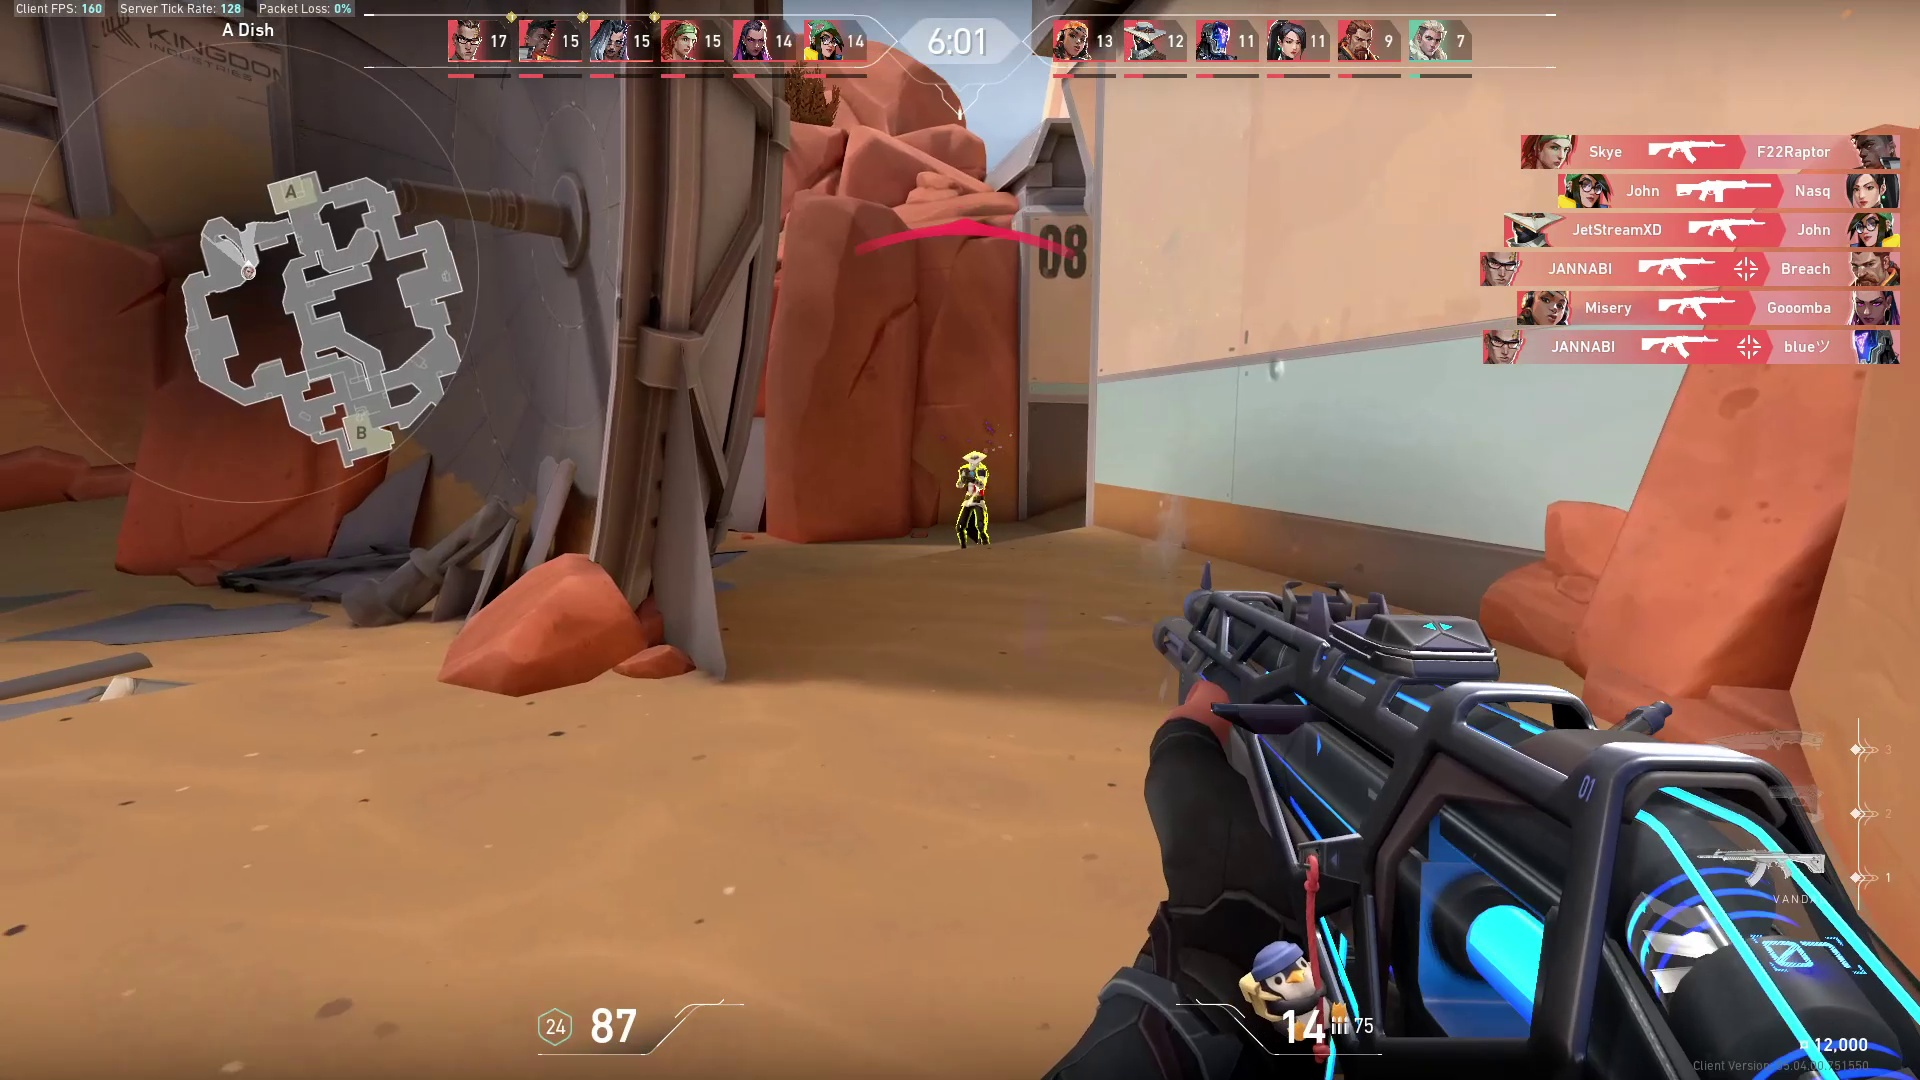enemy_body: (950, 465, 999, 552)
enemy_head: (960, 447, 989, 472)
